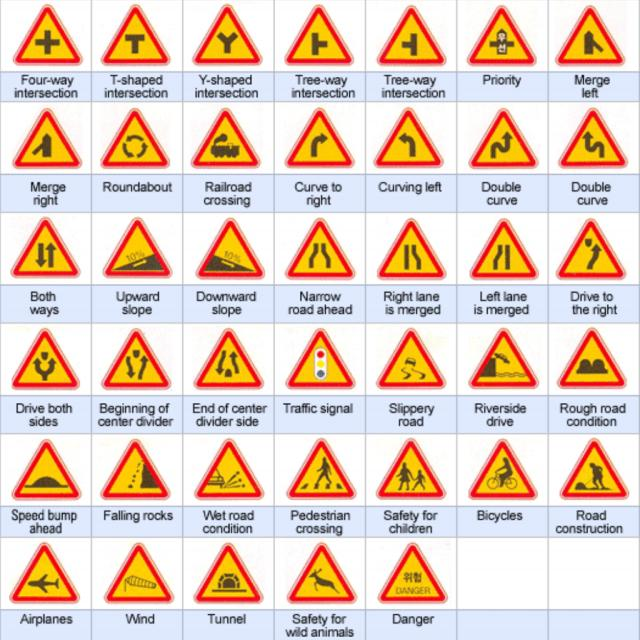Airplanes: (7, 540, 81, 605)
Beginning_of_center_divider: (97, 326, 174, 393)
Bicycles: (466, 436, 541, 502)
Both_ways: (7, 214, 85, 280)
Curve_to_right: (281, 104, 358, 171)
Curving_left: (370, 104, 450, 170)
Danger: (374, 540, 452, 606)
Double_curve_left: (555, 104, 632, 170)
Double_curve_right: (467, 104, 541, 170)
Downward_slope: (193, 216, 269, 280)
Drive_both_sides: (10, 326, 86, 392)
Drive_to_the_right: (553, 216, 629, 281)
End_of_center_divider_side: (190, 326, 266, 392)
Falling_rocks: (96, 436, 174, 501)
Four-way_intersection: (12, 2, 85, 67)
Left_lane_is_merged: (463, 213, 541, 283)
Merge_left: (552, 2, 630, 68)
Merge_right: (8, 105, 85, 171)
Narrow_road_ahead: (282, 215, 360, 282)
Pedestrian_crossing: (284, 436, 359, 502)
Prionity: (464, 3, 542, 67)
Railroad_crossing: (188, 105, 266, 171)
Right_lane_is_merged: (374, 214, 450, 281)
Riverside_drive: (464, 324, 543, 391)
Road_construction: (557, 436, 632, 501)
Rough_road_condition: (555, 325, 631, 393)
Roundabout: (97, 106, 172, 171)
Safety_for_children: (373, 435, 449, 503)
Safety_for_wild_animals: (284, 539, 360, 606)
Slippery_road: (373, 326, 449, 393)
Speed_bump_ahead: (7, 436, 84, 502)
T-shaped_intersection: (98, 2, 175, 68)
Traffic_signal: (283, 327, 360, 392)
Tree-way_intersection_left: (372, 3, 450, 69)
Tree-way_intersection_right: (281, 2, 357, 68)
Tunnel: (189, 540, 267, 606)
Upward_slope: (100, 214, 177, 281)
Wet_road_condition: (192, 437, 267, 501)
Wind: (101, 540, 176, 606)
Y-shaped_intersection: (190, 2, 265, 68)
